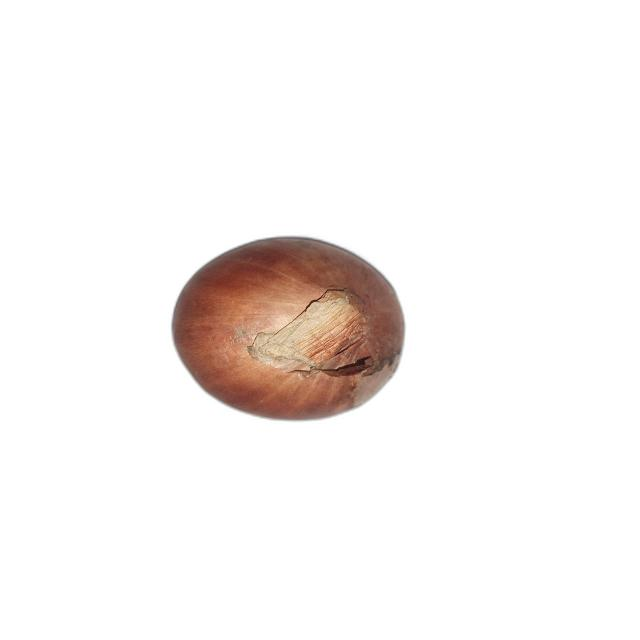onion: (171, 235, 407, 422)
